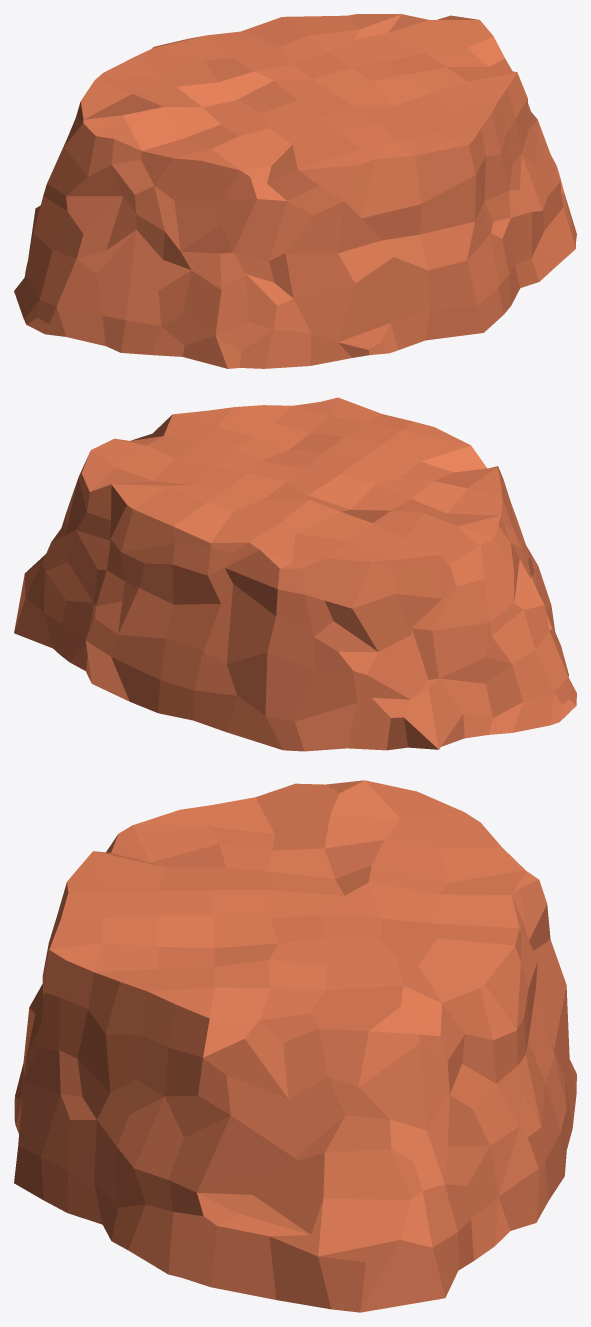
Rendered from Plateau_V03.fbx.
3 views of the same model, one above another, from view 1: azimuth 30°, elevation 25°; view 2: azimuth 150°, elevation 25°; view 3: azimuth 270°, elevation 25° (orthographic). The views are drawn at different scales.
Visible parts, largest first — view 1: Plateau_3; view 2: Plateau_3; view 3: Plateau_3.
Part boxes in pixels (x1,y1,x2,y2): Plateau_3: (14, 14, 576, 368); Plateau_3: (14, 397, 576, 751); Plateau_3: (14, 780, 576, 1312).
Size of the model in its own units: 884 by 297 by 616.
